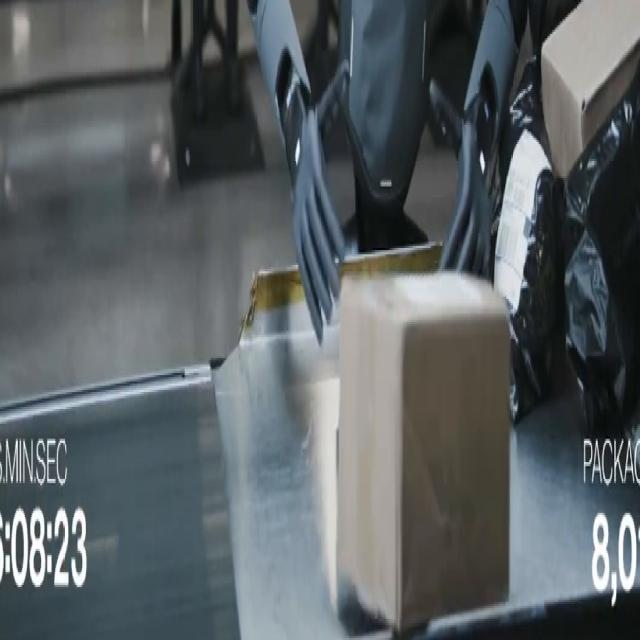package: (337, 274, 510, 631), (563, 66, 639, 430), (492, 60, 562, 423), (542, 0, 639, 178)
